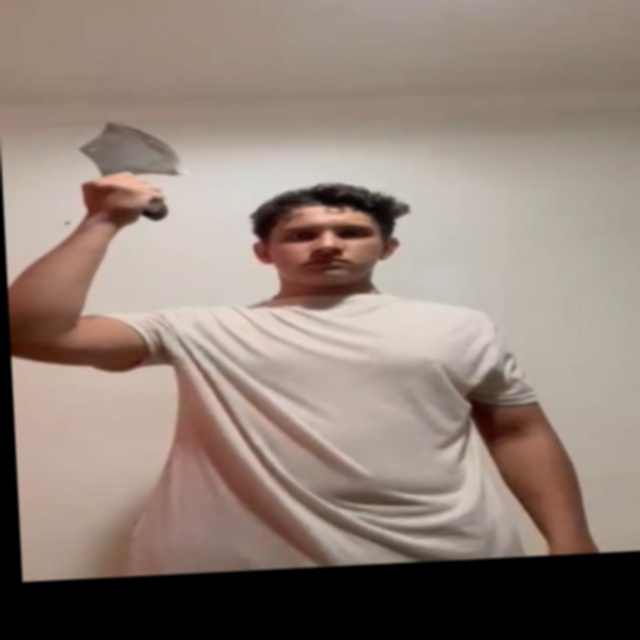Sharp-Object: (72, 119, 178, 179)
